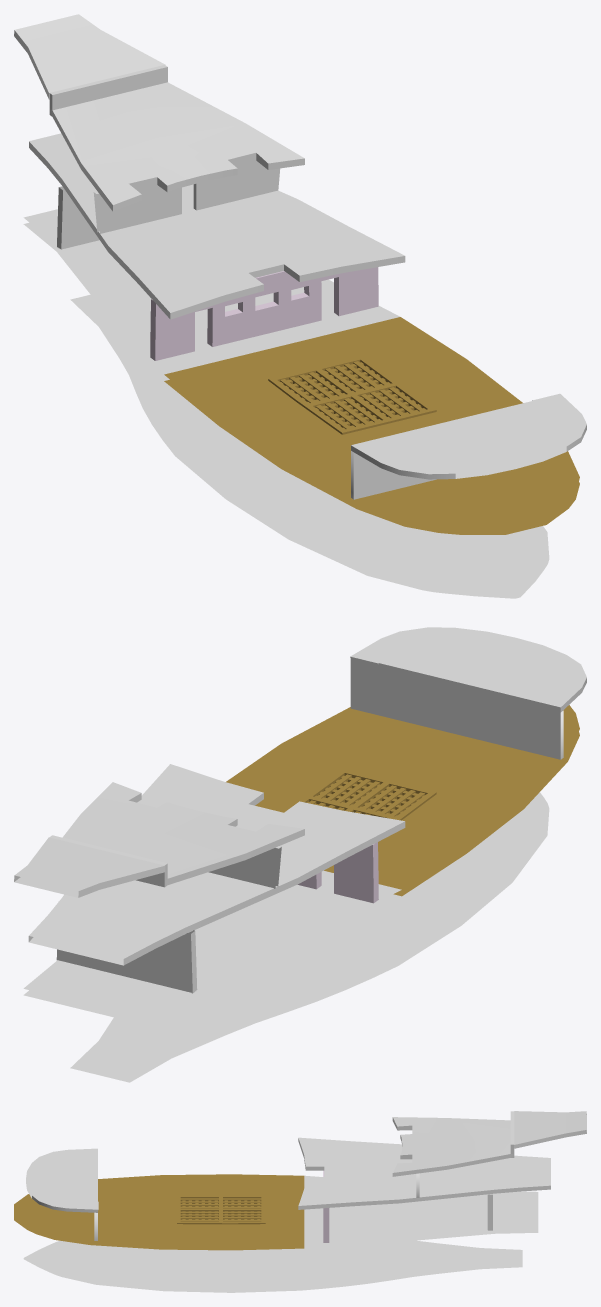
Rendered from Deck.fbx.
3 views of the same model, one above another, from view 1: azimuth 30°, elevation 25°; view 2: azimuth 150°, elevation 25°; view 3: azimuth 270°, elevation 25° (orthographic). The views are drawn at different scales.
Visible parts, largest first — view 1: Deck.008, Deck, Deck.002, Deck.004, Deck.009, Deck.006, Deck.001, Deck.005, Deck.003, Deck.007; view 2: Deck.008, Deck, Deck.002, Deck.009, Deck.006, Deck.004, Deck.005, Deck.007, Deck.001, Deck.003; view 3: Deck, Deck.008, Deck.002, Deck.006, Deck.004, Deck.009, Deck.005, Deck.001.
Boxes of the visible parts, x1=… form: Deck.008: x1=164, y1=317, x2=579, y2=534; Deck: x1=70, y1=294, x2=549, y2=598; Deck.002: x1=29, y1=133, x2=405, y2=319; Deck.004: x1=49, y1=82, x2=304, y2=211; Deck.009: x1=351, y1=393, x2=586, y2=499; Deck.006: x1=23, y1=209, x2=400, y2=380; Deck.001: x1=150, y1=267, x2=378, y2=360; Deck.005: x1=14, y1=14, x2=167, y2=110; Deck.003: x1=93, y1=160, x2=280, y2=233; Deck.007: x1=57, y1=186, x2=99, y2=249; Deck.008: x1=226, y1=705, x2=579, y2=896; Deck: x1=70, y1=792, x2=549, y2=1082; Deck.002: x1=28, y1=764, x2=405, y2=965; Deck.009: x1=350, y1=627, x2=586, y2=759; Deck.006: x1=23, y1=870, x2=401, y2=1026; Deck.004: x1=62, y1=782, x2=304, y2=887; Deck.005: x1=14, y1=835, x2=167, y2=897; Deck.007: x1=56, y1=930, x2=197, y2=993; Deck.001: x1=297, y1=842, x2=378, y2=903; Deck.003: x1=208, y1=846, x2=281, y2=888; Deck: x1=23, y1=1240, x2=522, y2=1292; Deck.008: x1=14, y1=1174, x2=304, y2=1250; Deck.002: x1=298, y1=1137, x2=550, y2=1209; Deck.006: x1=304, y1=1175, x2=538, y2=1248; Deck.004: x1=392, y1=1117, x2=514, y2=1176; Deck.009: x1=26, y1=1148, x2=98, y2=1240; Deck.005: x1=510, y1=1111, x2=586, y2=1153; Deck.001: x1=323, y1=1170, x2=329, y2=1242.
Size of the model in its own units: 1329 by 1185 by 4459.
